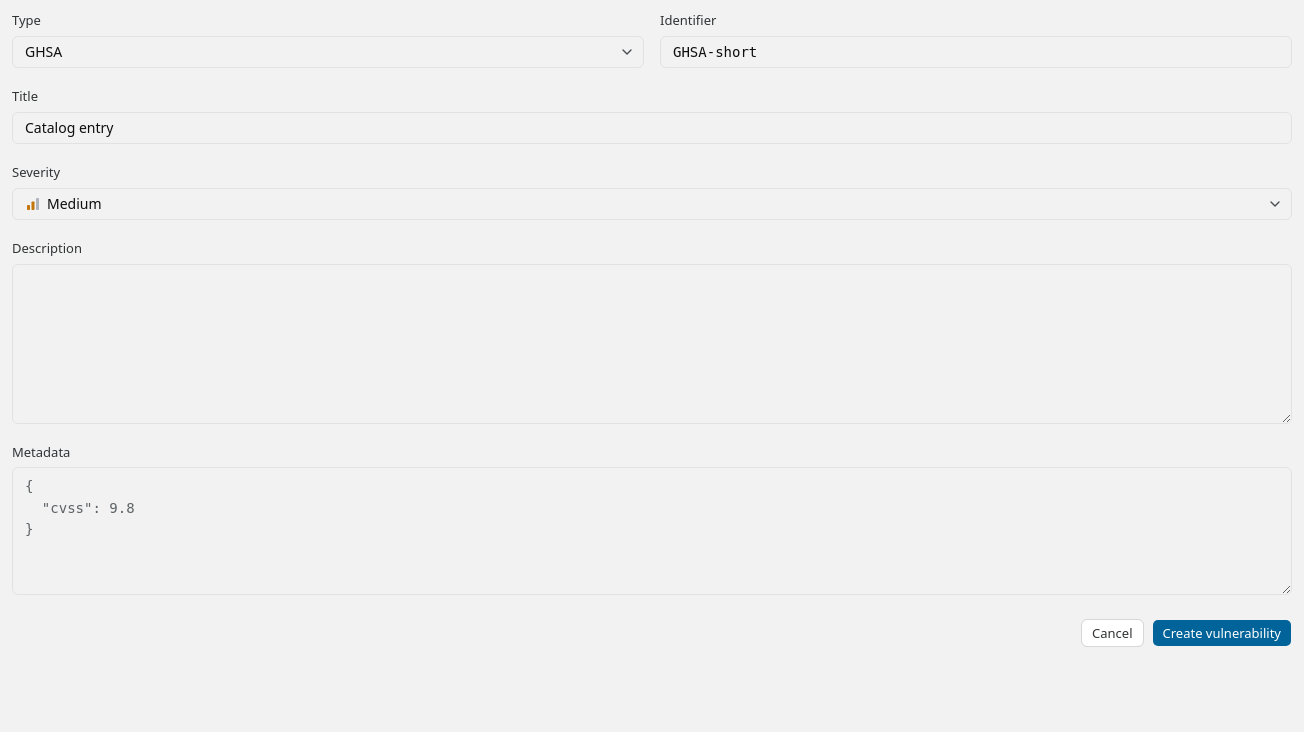
VulnerabilityForm › validates ghsa identifiers using the shared catalog contract
Click the button "Create vulnerability" at (1222, 633), box [1152,619,1292,647]
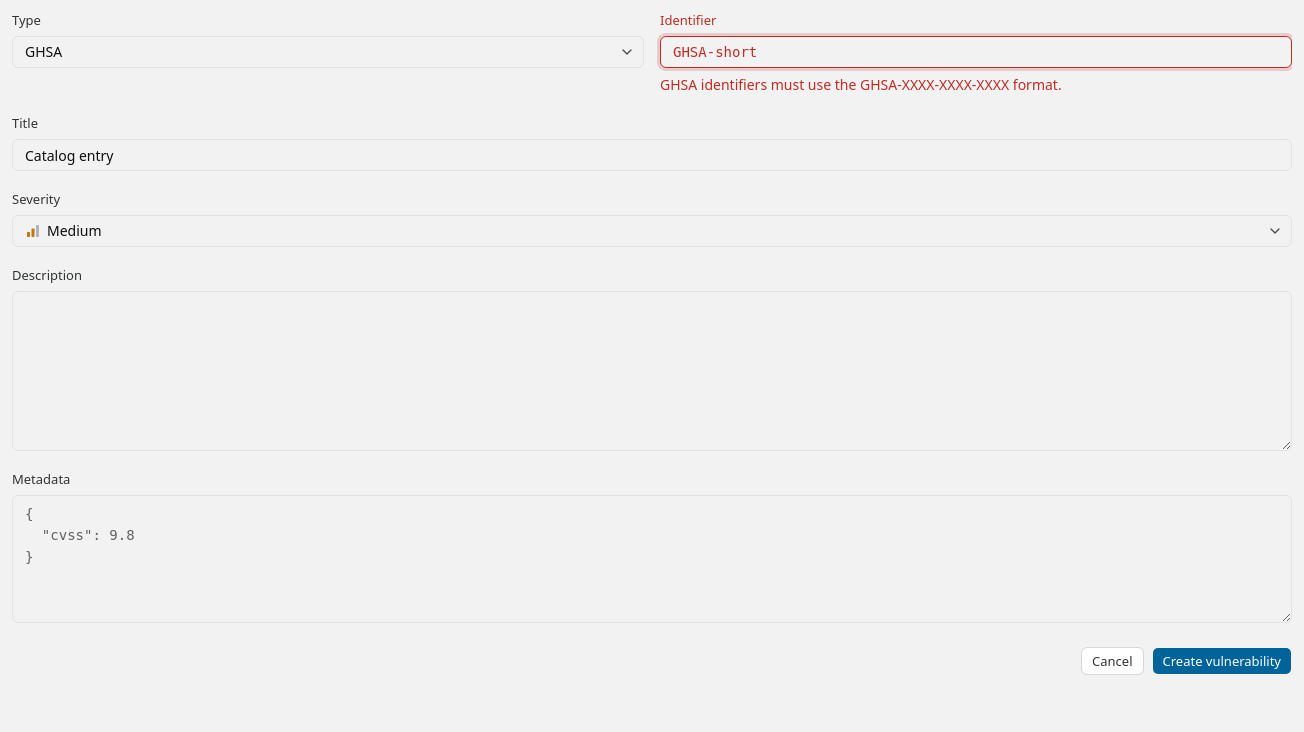
expect the text "GHSA identifiers must use the GHSA-XXXX-XXXX-XXXX format." is shown: met, box [660,75,1062,94]
